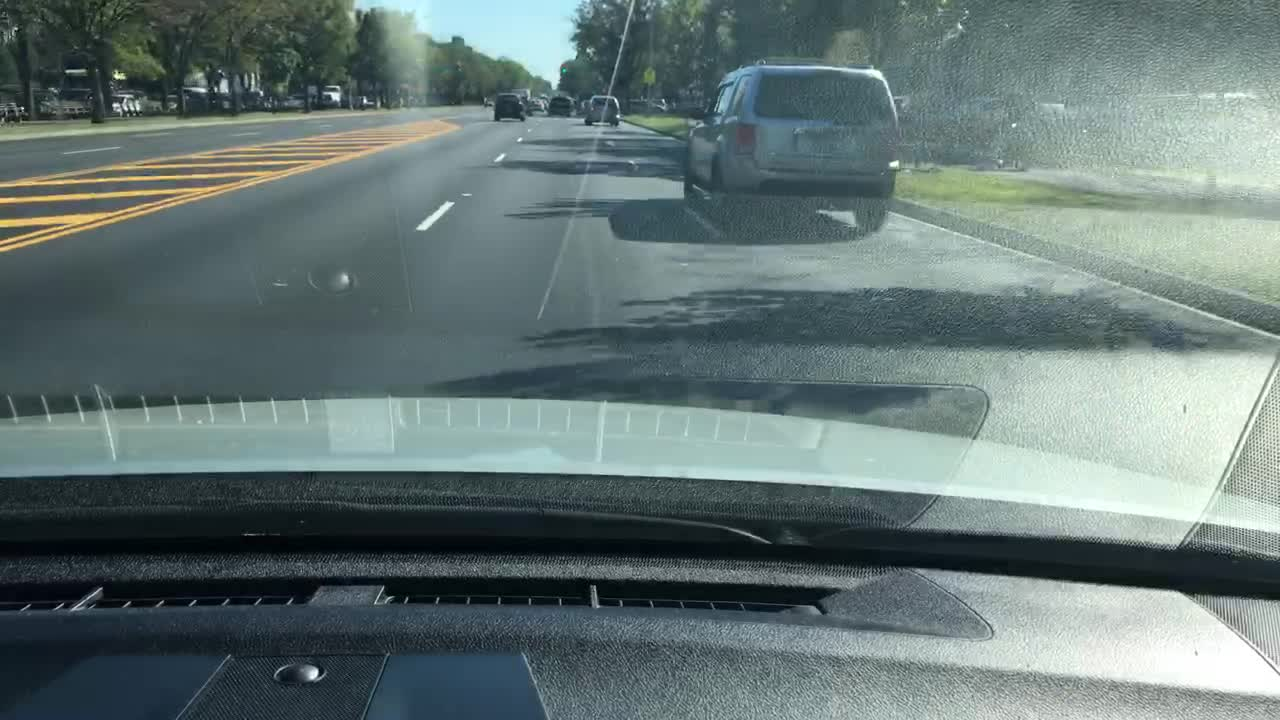car: (681, 57, 902, 227), (1175, 94, 1267, 124), (963, 94, 1014, 119), (582, 93, 621, 123), (496, 89, 526, 124), (26, 92, 57, 116), (107, 94, 139, 117), (1034, 102, 1070, 119), (625, 98, 665, 113), (0, 91, 18, 122), (546, 93, 571, 114), (183, 92, 210, 111), (212, 94, 247, 108), (247, 89, 269, 109), (138, 97, 162, 114), (165, 93, 187, 111), (277, 96, 305, 108), (346, 94, 370, 107), (532, 96, 542, 112), (482, 94, 494, 104)
traffic light: (561, 62, 567, 74)
traffic sign: (641, 67, 653, 86)
truck: (62, 68, 127, 117), (318, 82, 343, 108)
